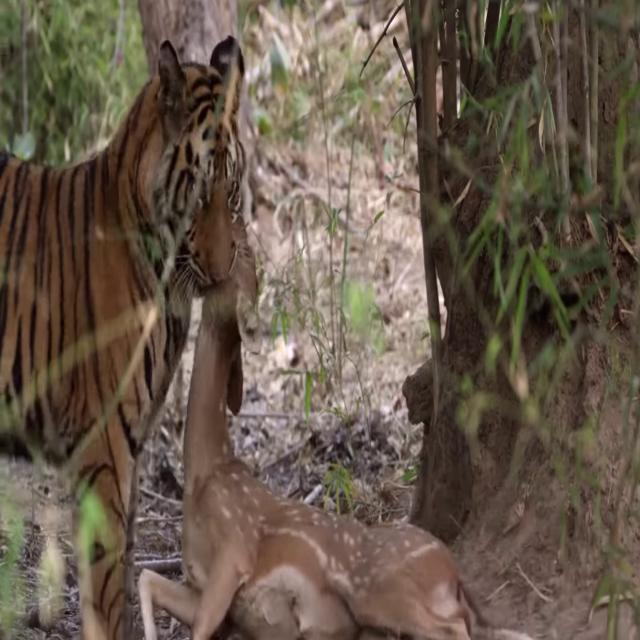tiger: (3, 34, 247, 640)
